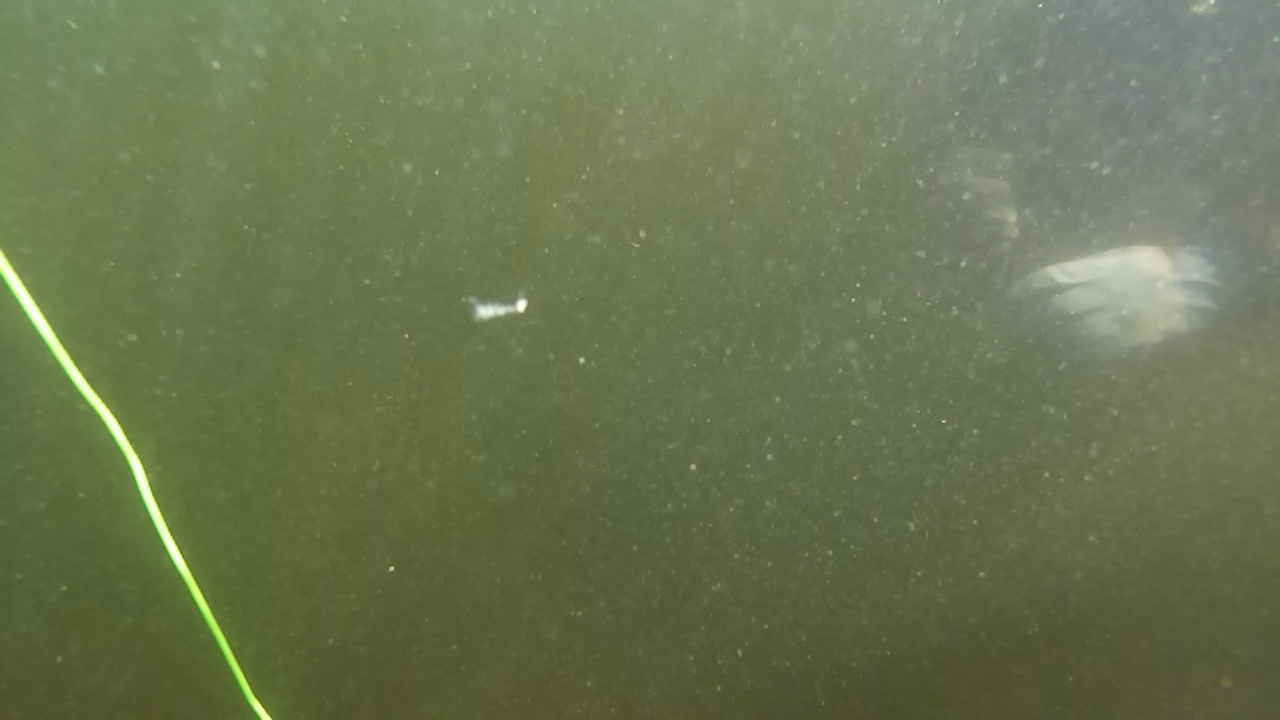Hand: (1002, 200, 1196, 380)
